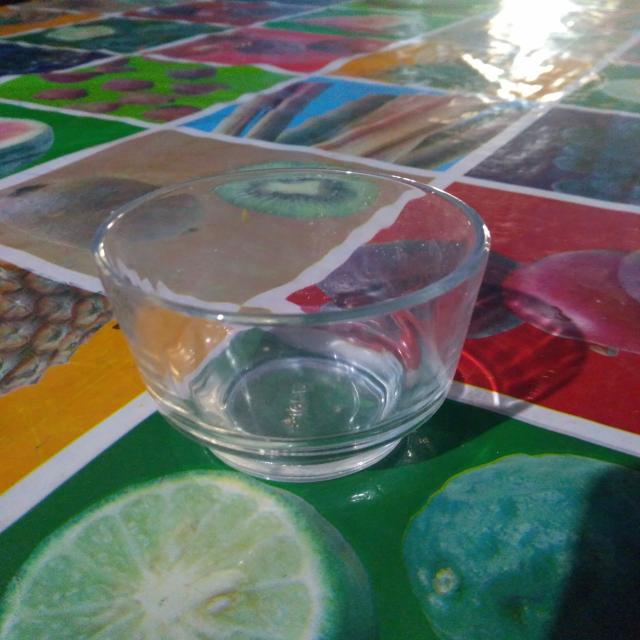Glass: (88, 164, 497, 486)
